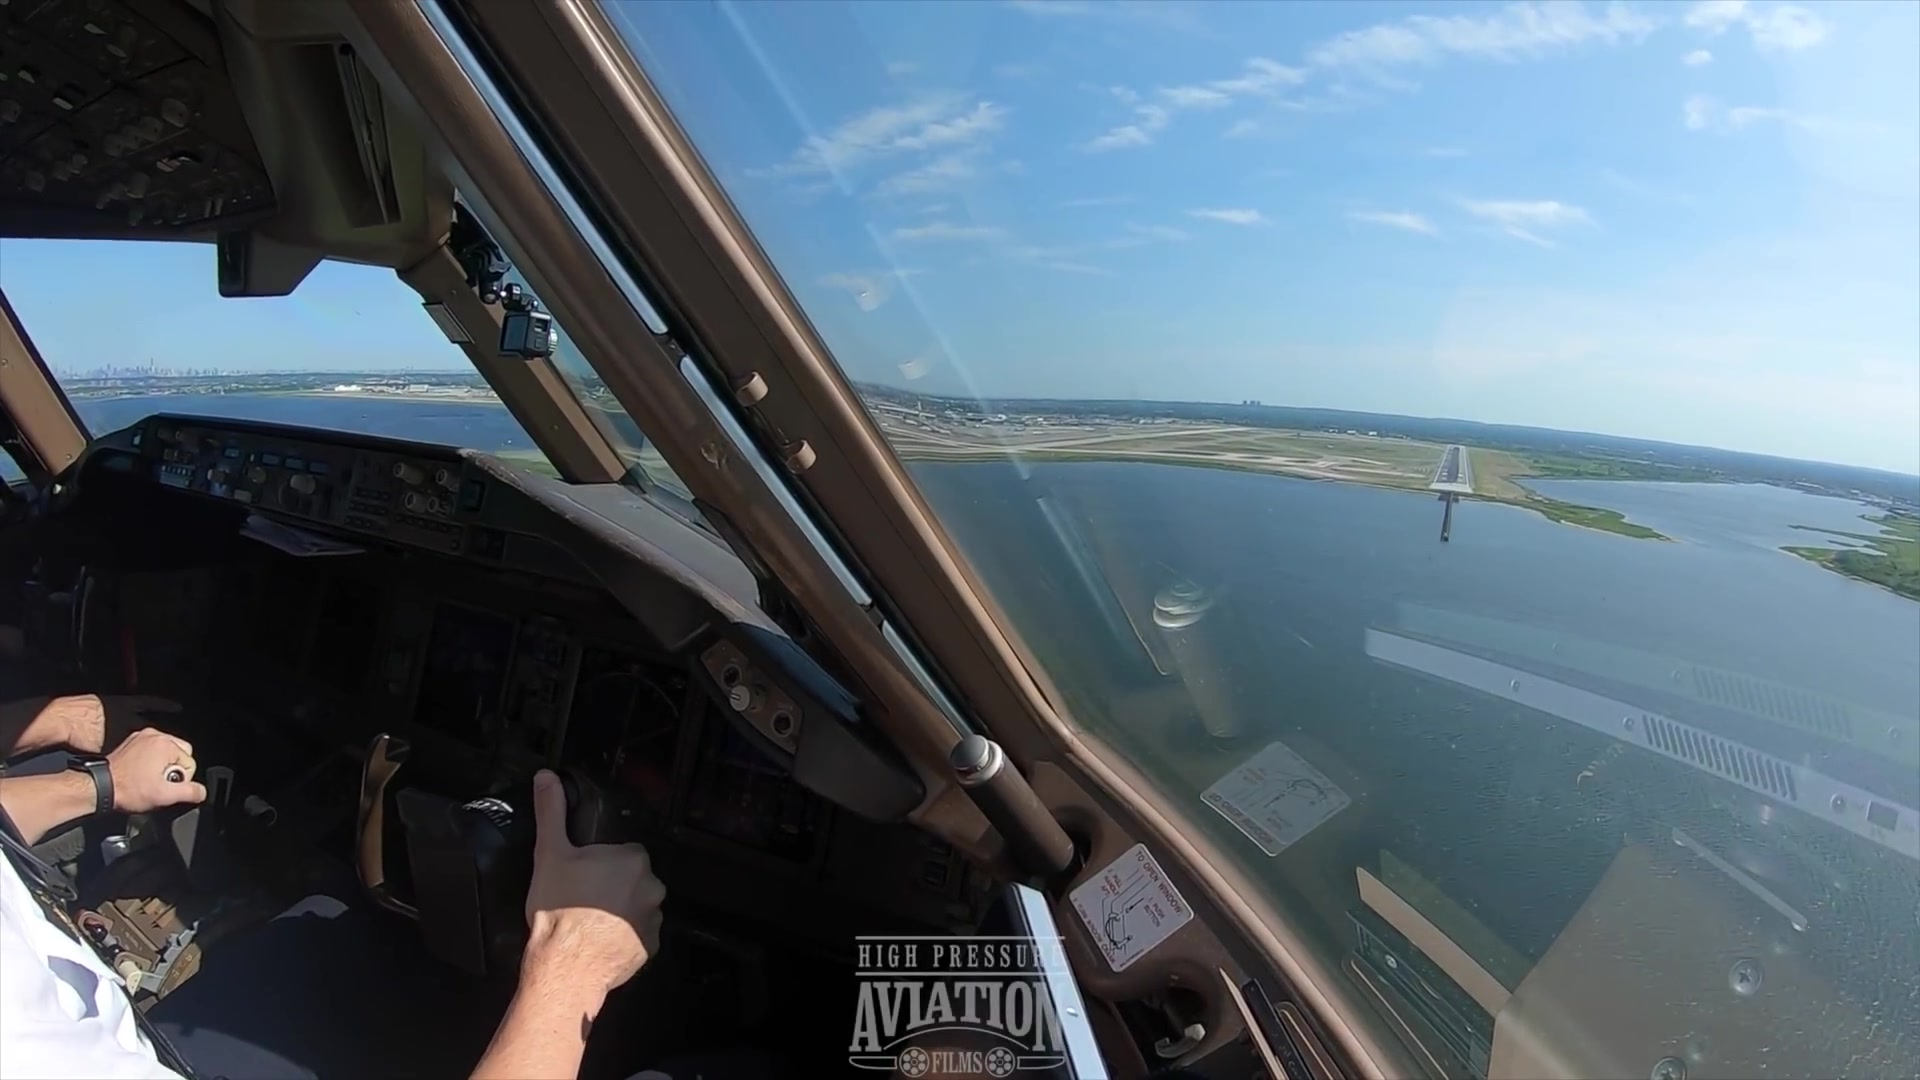runway: (1429, 440, 1473, 489)
